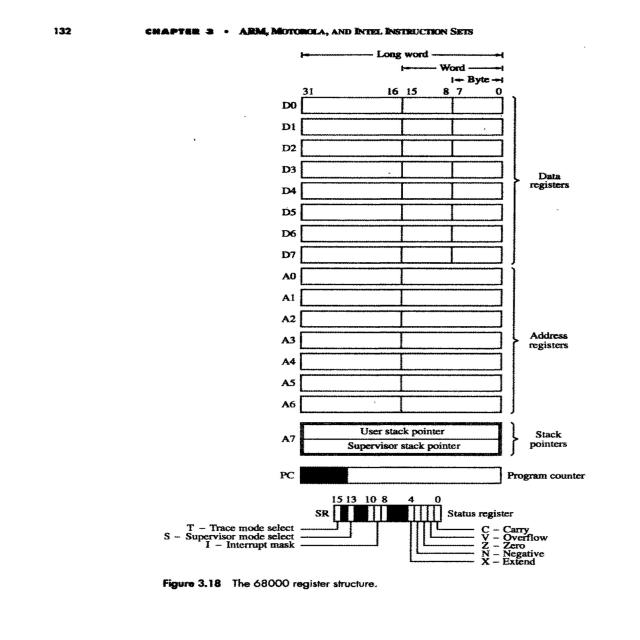diagram: (141, 43, 588, 607), (639, 256, 640, 266)
